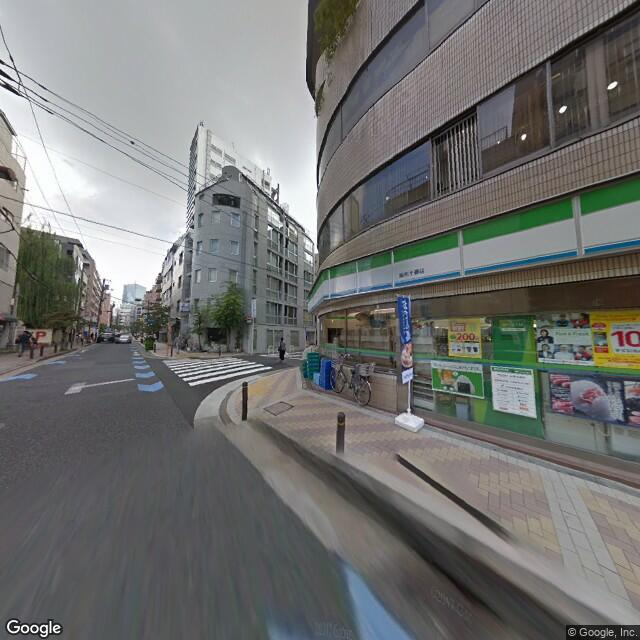family_mart: (308, 168, 638, 315)
